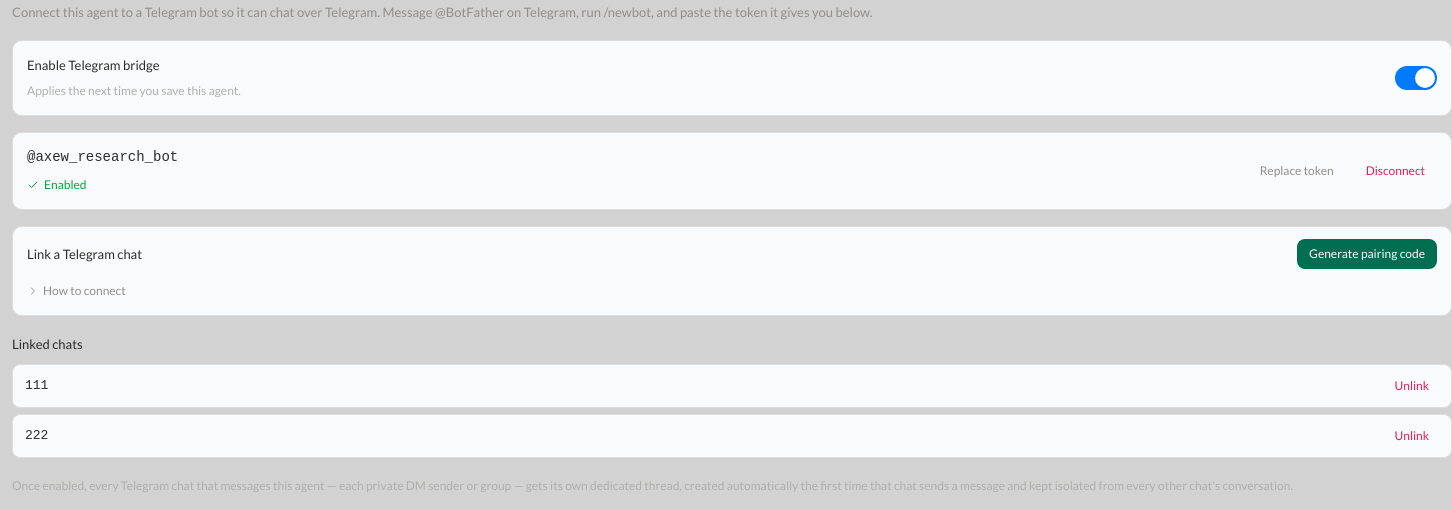
Test case: TelegramTabPanel › renders linked chat ids and unlinks one, updating the list from the response
The width and height of the screenshot is (1452, 509).
Click the button "Unlink" in the row of "111": coordinates (1412, 386) [1384,373,1439,399]
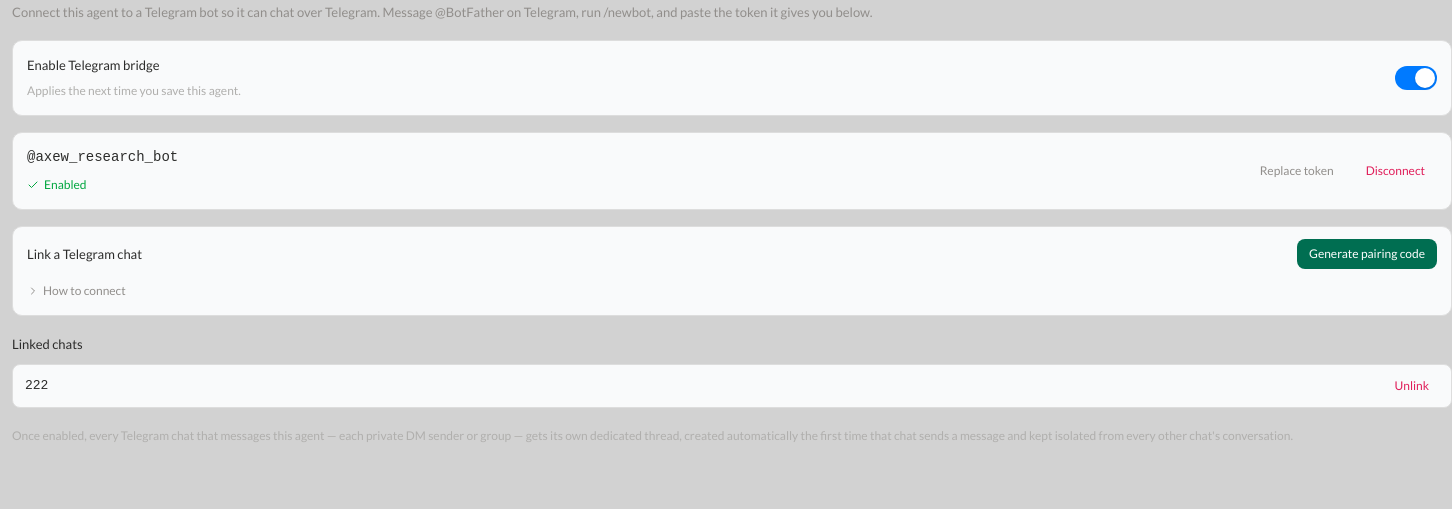
Expected: the text "222" is shown, [25,374,48,398]
Now the text "111" is gone
